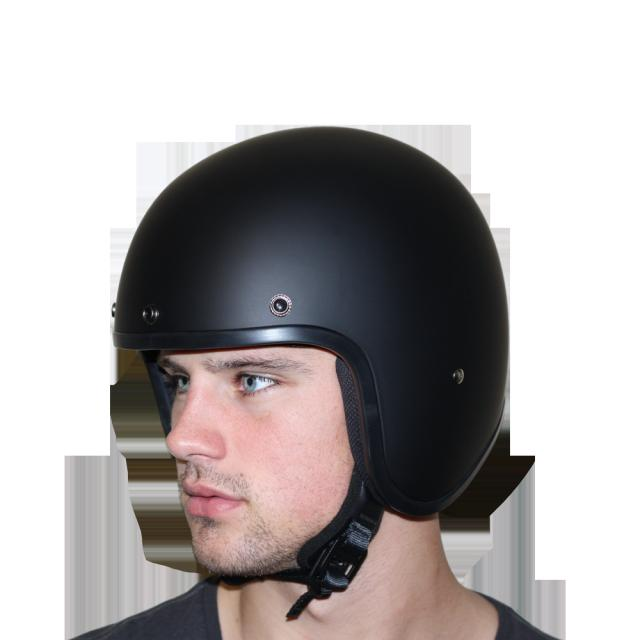Helmet: (109, 122, 510, 580)
